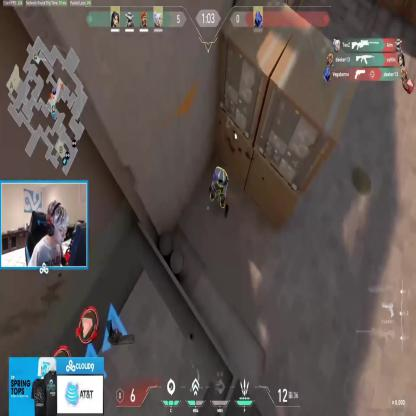enemy: (208, 163, 228, 220)
enemy_head: (218, 169, 224, 182)
